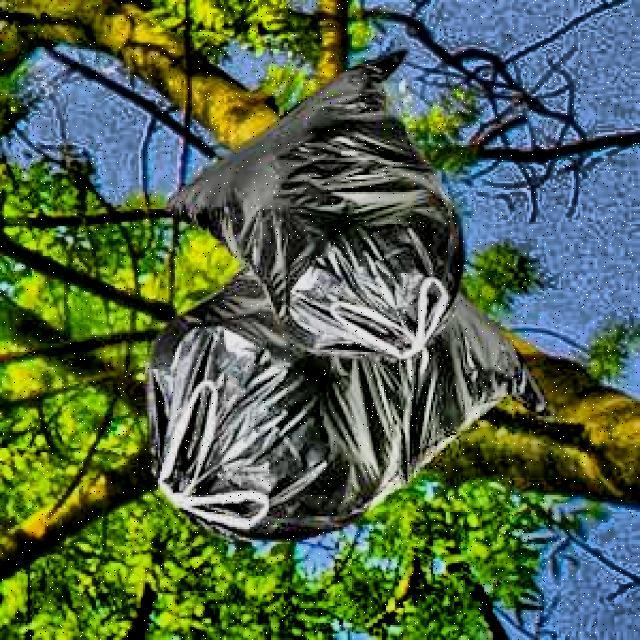Trashbag: (147, 301, 470, 549), (180, 64, 454, 337)
